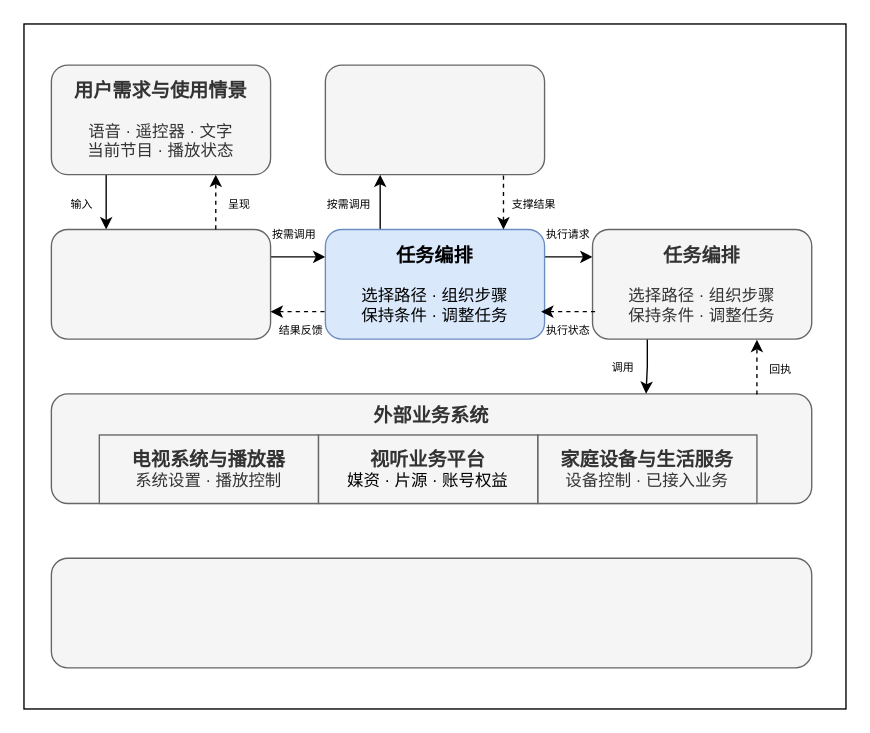
The diagram is 870 pixels wide and 733 high, and some of its shapes have lost their labels. The shapes that lost their labels are listed below. From the top down, each one's centre as x and y in pixels, then its label:
At pixel 434 119: "模型与知识支撑 遥控器 · 文字 当前节目 · 播放状态".
At pixel 160 283: "交互感知 关联输入与观看情境 明确目标、对象与条件".
At pixel 431 612: "终端与平台协同支撑 电视与机顶盒 · 模型与知识平台 · 业务服务资源".
